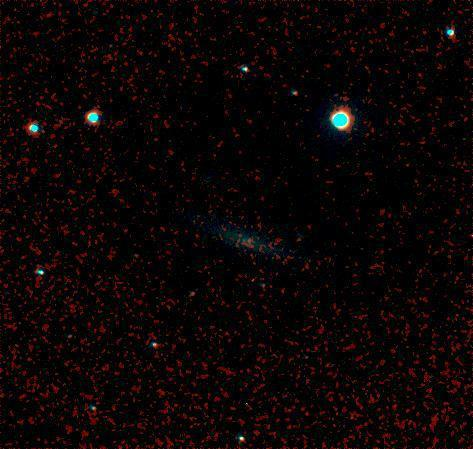star: (337, 404, 367, 434)
